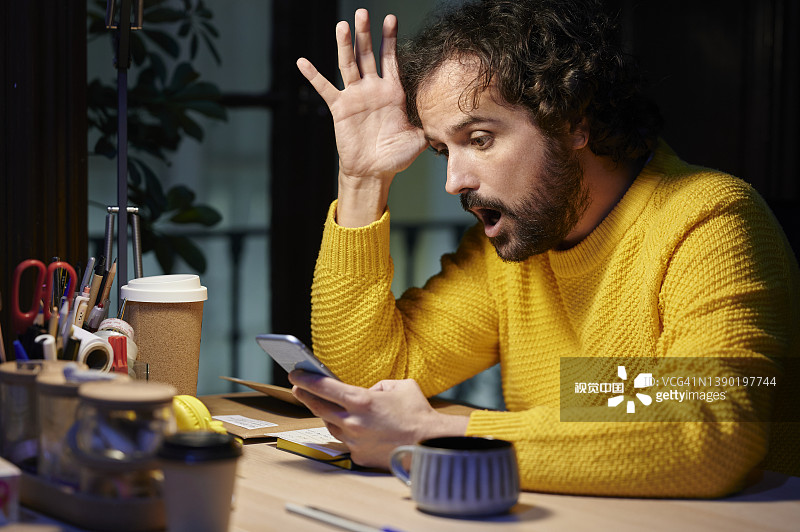no-phone: (290, 4, 452, 201)
reading: (258, 332, 479, 481)
